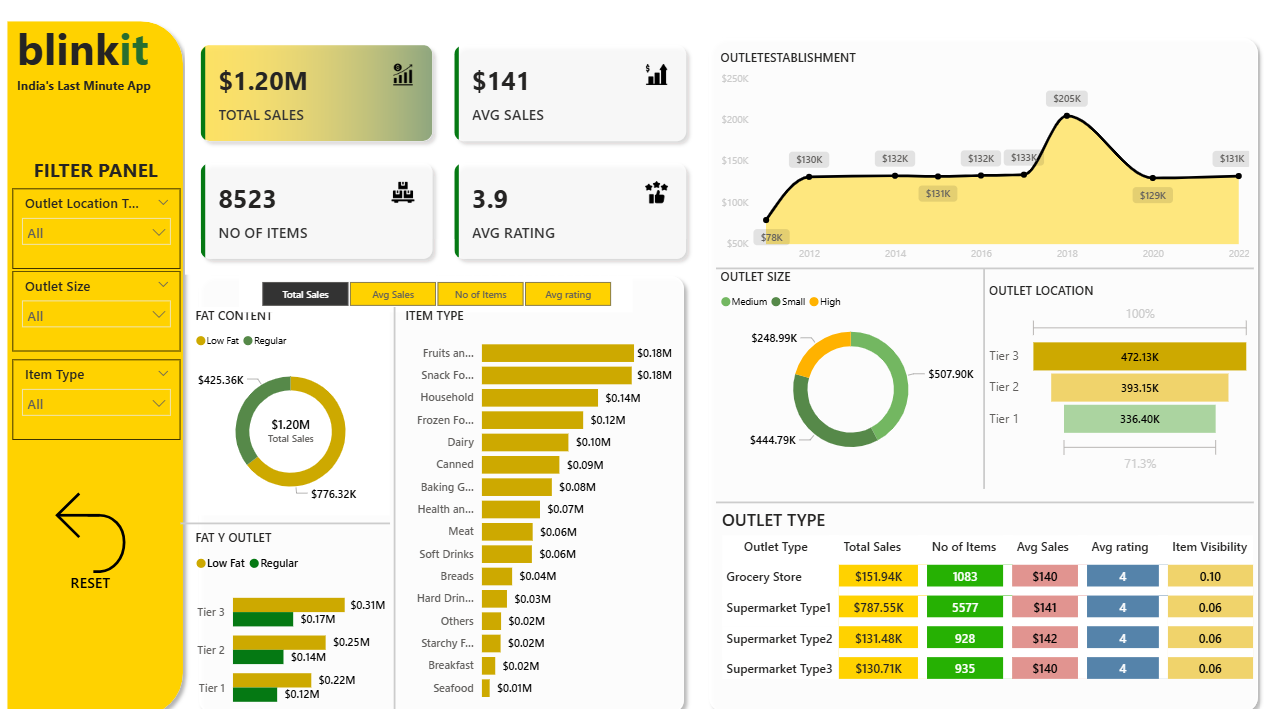

The page's visual inventory and layout, read from the dashboard file:
{"tool":"powerbi","page":{"name":"Page 1","canvas":[1400,800],"ordinal":0},"visuals":[{"type":"shape","box":[0,15.9,212.1,784.7],"z":0},{"type":"textbox","box":[14.5,16.5,173.6,80.6],"z":1000},{"type":"textbox","box":[14.5,80.6,173.6,33.1],"z":2000},{"type":"cardVisual","fields":{"Data":["BlinkIT Grocery Data.Total Sales","BlinkIT Grocery Data.Avg Sales","BlinkIT Grocery Data.No of Items","BlinkIT Grocery Data.Avg rating"]},"box":[204.6,35.1,570.5,270.8],"z":3000},{"type":"shape","box":[212.1,298.7,553.2,500.2],"z":4000},{"type":"donutChart","title":"FAT CONTENT","fields":{"Y":["BlinkIT Grocery Data.Total Sales"],"Category":["BlinkIT Grocery Data.Item Fat Content"]},"box":[212.1,341.1,219.2,229.8],"z":5000},{"type":"slicer","fields":{"Values":["Metrics.Metrics"]},"box":[265.1,305.8,434.8,40.6],"z":6000},{"type":"cardVisual","fields":{"Data":["BlinkIT Grocery Data.Total Sales"]},"box":[266.9,443.6,111.3,61.9],"z":7000},{"type":"clusteredBarChart","title":"FAT Y OUTLET","fields":{"Y":["BlinkIT Grocery Data.Total Sales"],"Category":["BlinkIT Grocery Data.Outlet Location Type"],"Series":["BlinkIT Grocery Data.Item Fat Content"]},"box":[212.1,586.8,219.2,213.8],"z":8000},{"type":"shape","box":[431.2,341.1,12.4,445.4],"z":9000},{"type":"shape","box":[199.7,572.6,231.5,14.1],"z":10000},{"type":"barChart","title":"ITEM TYPE","fields":{"Y":["BlinkIT Grocery Data.Total Sales"],"Category":["BlinkIT Grocery Data.Item Type"]},"box":[443.6,341.1,304,445.4],"z":11000},{"type":"shape","box":[775.9,35.3,623.9,763.5],"z":12000},{"type":"lineChart","title":"OUTLETESTABLISHMENT","fields":{"Category":["BlinkIT Grocery Data.Outlet Establishment Year"],"Y":["BlinkIT Grocery Data.Total Sales"]},"box":[791.8,56.6,593.8,242.1],"z":13000},{"type":"shape","box":[791.8,291.6,593.8,14.1],"z":14000},{"type":"donutChart","title":"OUTLET SIZE","fields":{"Y":["BlinkIT Grocery Data.Total Sales"],"Category":["BlinkIT Grocery Data.Outlet Size"]},"box":[791.8,298.7,296.9,222.7],"z":15000},{"type":"shape","box":[1081.6,298.7,12.4,243.9],"z":16000},{"type":"funnel","title":"OUTLET LOCATION","fields":{"Category":["BlinkIT Grocery Data.Outlet Location Type"],"Y":["Sum(BlinkIT Grocery Data.Sales)"]},"box":[1088.7,312.8,298.7,215.6],"z":17000},{"type":"shape","box":[791.8,549.6,593.8,14.1],"z":18000},{"type":"pivotTable","title":"OUTLET TYPE","fields":{"Rows":["BlinkIT Grocery Data.Outlet Type"],"Values":["BlinkIT Grocery Data.Total Sales","BlinkIT Grocery Data.No of Items","BlinkIT Grocery Data.Avg Sales","BlinkIT Grocery Data.Avg rating","Avg(BlinkIT Grocery Data.Item Visibility)"]},"box":[793.5,563.8,600.9,229.8],"z":19000},{"type":"slicer","fields":{"Values":["BlinkIT Grocery Data.Outlet Location Type"]},"box":[14.1,210.3,185.6,88.4],"z":20000},{"type":"slicer","fields":{"Values":["BlinkIT Grocery Data.Outlet Size"]},"box":[14.1,302.2,185.6,88.4],"z":21000},{"type":"slicer","fields":{"Values":["BlinkIT Grocery Data.Item Type"]},"box":[14.1,399.4,185.6,88.4],"z":22000},{"type":"textbox","box":[26.5,169.7,160.8,40.6],"z":23000},{"type":"actionButton","box":[46,521.4,109.6,137.9],"z":24000}]}

Visuals, with their boxes in screenshot pixels (x1, y1, x2, y2), scaled from the page's 1400x800 canvas onto the 1264x709 screenshot:
shape: x1=0 y1=14 x2=191 y2=708
textbox: x1=13 y1=15 x2=170 y2=86
textbox: x1=13 y1=71 x2=170 y2=101
cardVisual - BlinkIT Grocery Data.Total Sales x BlinkIT Grocery Data.Avg Sales: x1=185 y1=31 x2=700 y2=271
shape: x1=191 y1=265 x2=691 y2=708
"FAT CONTENT" donutChart: x1=191 y1=302 x2=389 y2=506
slicer - Metrics.Metrics: x1=239 y1=271 x2=632 y2=307
cardVisual - BlinkIT Grocery Data.Total Sales: x1=241 y1=393 x2=341 y2=448
"FAT Y OUTLET" clusteredBarChart: x1=191 y1=520 x2=389 y2=708
shape: x1=389 y1=302 x2=401 y2=697
shape: x1=180 y1=507 x2=389 y2=520
"ITEM TYPE" barChart: x1=401 y1=302 x2=675 y2=697
shape: x1=701 y1=31 x2=1263 y2=708
"OUTLETESTABLISHMENT" lineChart: x1=715 y1=50 x2=1251 y2=265
shape: x1=715 y1=258 x2=1251 y2=271
"OUTLET SIZE" donutChart: x1=715 y1=265 x2=983 y2=462
shape: x1=977 y1=265 x2=988 y2=481
"OUTLET LOCATION" funnel: x1=983 y1=277 x2=1253 y2=468
shape: x1=715 y1=487 x2=1251 y2=500
"OUTLET TYPE" pivotTable: x1=716 y1=500 x2=1259 y2=703
slicer - BlinkIT Grocery Data.Outlet Location Type: x1=13 y1=186 x2=180 y2=265
slicer - BlinkIT Grocery Data.Outlet Size: x1=13 y1=268 x2=180 y2=346
slicer - BlinkIT Grocery Data.Item Type: x1=13 y1=354 x2=180 y2=432
textbox: x1=24 y1=150 x2=169 y2=186
actionButton: x1=42 y1=462 x2=140 y2=584
